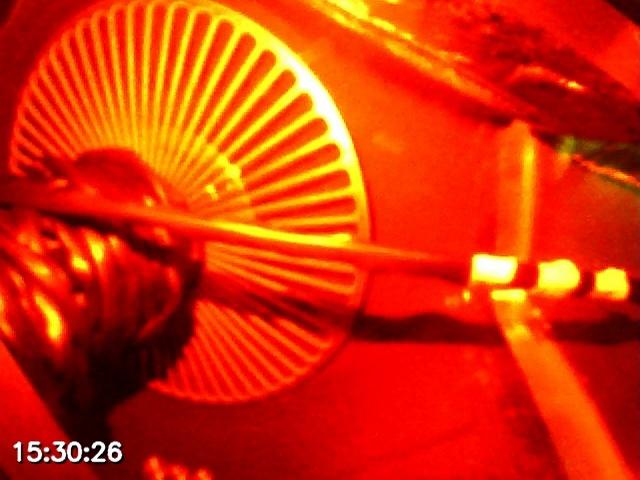white-dots: (470, 253, 629, 305)
